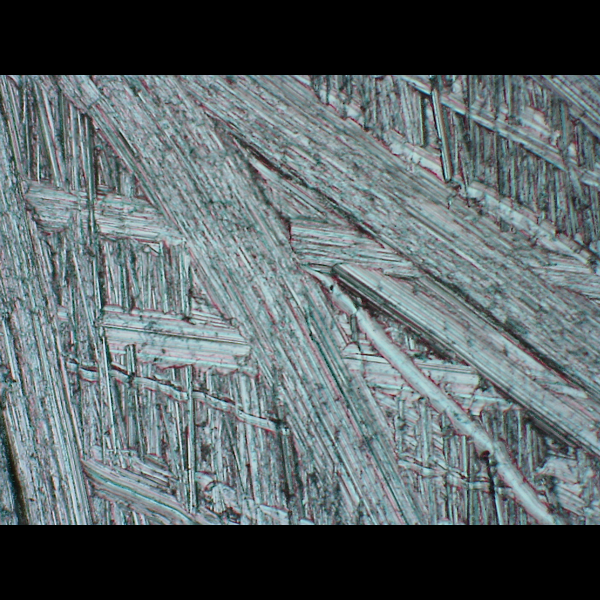d: (0, 77, 595, 524)
